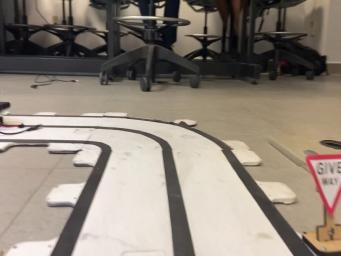give_way: (302, 154, 341, 256)
street: (40, 115, 316, 256)
